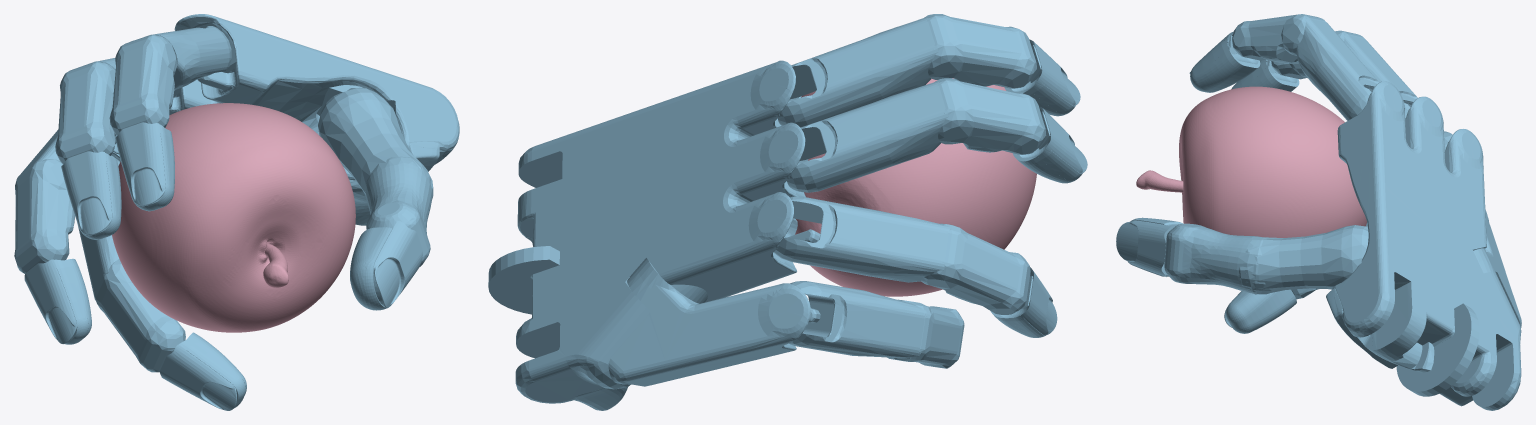
3 renders of one model, left to right at view 1: azimuth 30°, elevation 25°; view 2: azimuth 150°, elevation 25°; view 3: azimuth 270°, elevation 25°, orthographic. The views are drawn at different scales.
Visible parts, largest first — view 1: world, apple.stl; view 2: world, apple.stl; view 3: world, apple.stl.
Boxes of the visible parts, <box> form: world: <box>14,14,459,410</box>; apple.stl: <box>112,103,355,332</box>; world: <box>488,14,1087,410</box>; apple.stl: <box>795,78,1036,296</box>; world: <box>1116,14,1521,410</box>; apple.stl: <box>1136,86,1366,237</box>.
Size of the model in its own units: 0.169 by 0.1265 by 0.1547.
